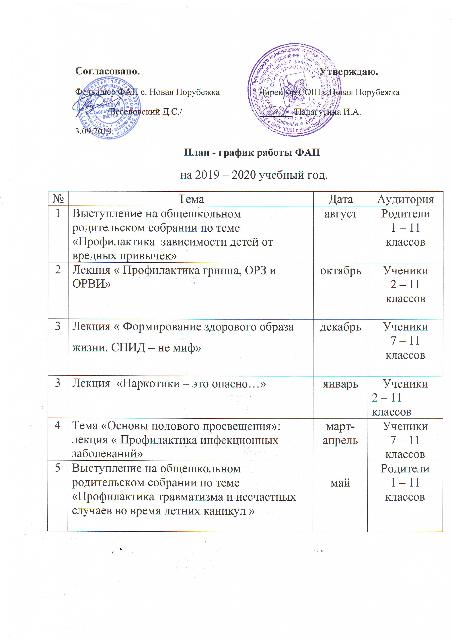stamp: (248, 44, 340, 136), (78, 78, 140, 140)
